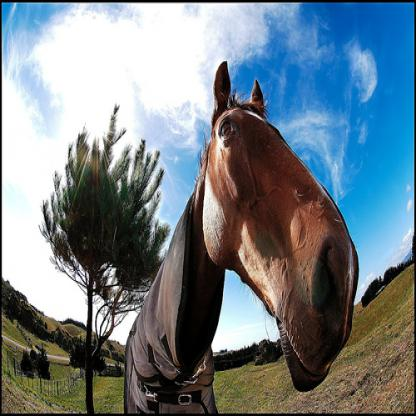horse: (124, 59, 359, 414)
